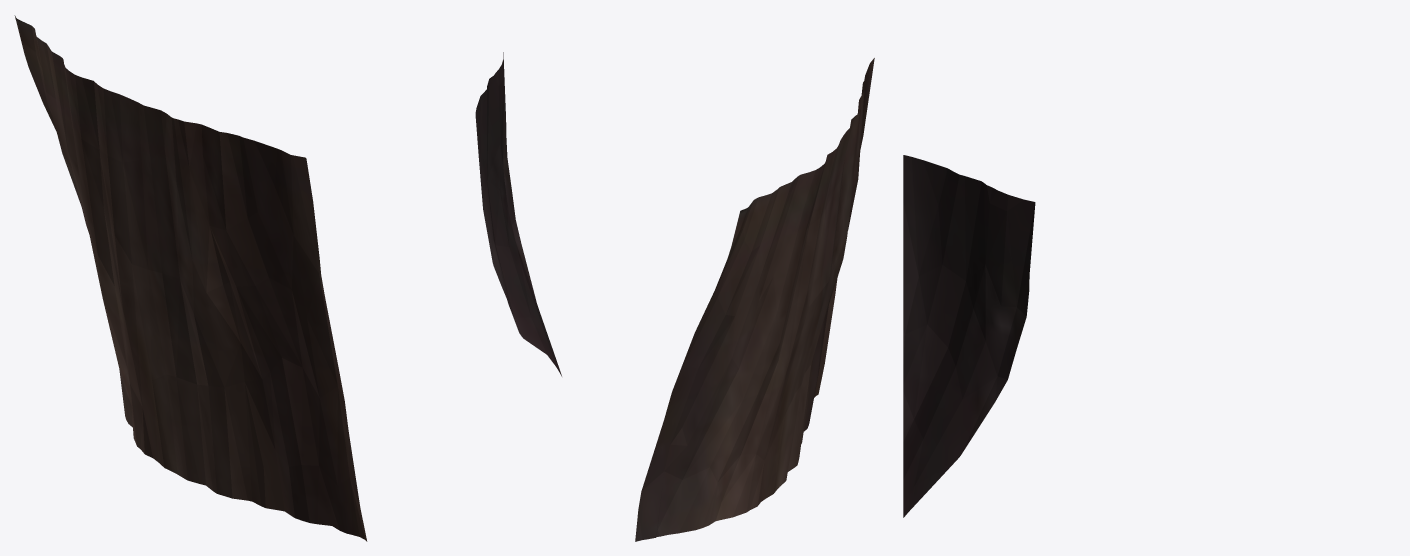
3 renders of one model, left to right at view 1: azimuth 30°, elevation 25°; view 2: azimuth 150°, elevation 25°; view 3: azimuth 270°, elevation 25°, orthographic. The views are drawn at different scales.
Bounding box in the file's own units: 38.8 × 42.87 × 42.87.
Materials: 1 (1 with a texture image).
